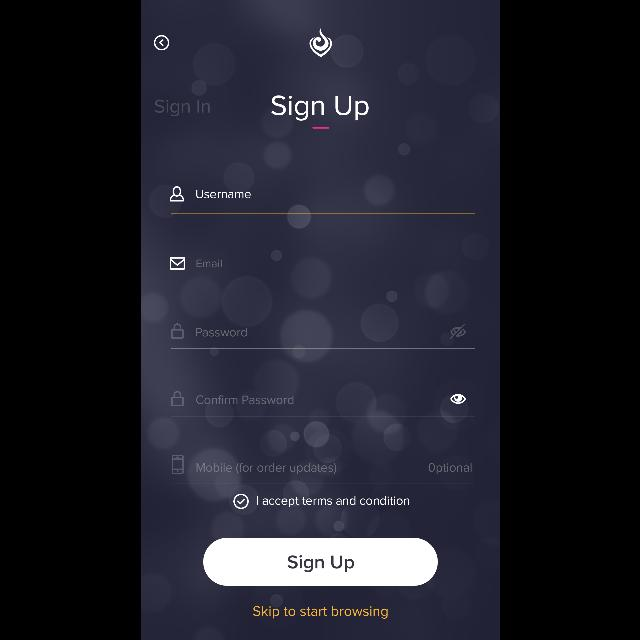backgroundimage: (140, 1, 500, 640)
checkbox: (232, 493, 248, 509)
icon: (169, 186, 183, 202), (450, 324, 466, 338), (154, 36, 168, 50), (170, 258, 184, 270), (171, 324, 183, 338), (171, 392, 183, 406), (450, 394, 466, 404)
image: (308, 28, 332, 58), (171, 456, 183, 474)
input: (169, 186, 475, 214), (171, 456, 475, 484), (171, 391, 475, 417), (169, 257, 475, 281), (171, 324, 475, 348)
text: (271, 96, 369, 120), (256, 497, 409, 508), (252, 606, 388, 618), (196, 464, 336, 474), (154, 100, 208, 116), (195, 396, 292, 404), (196, 328, 247, 337), (196, 190, 250, 198), (196, 260, 220, 268)
textbutton: (202, 538, 438, 586)
